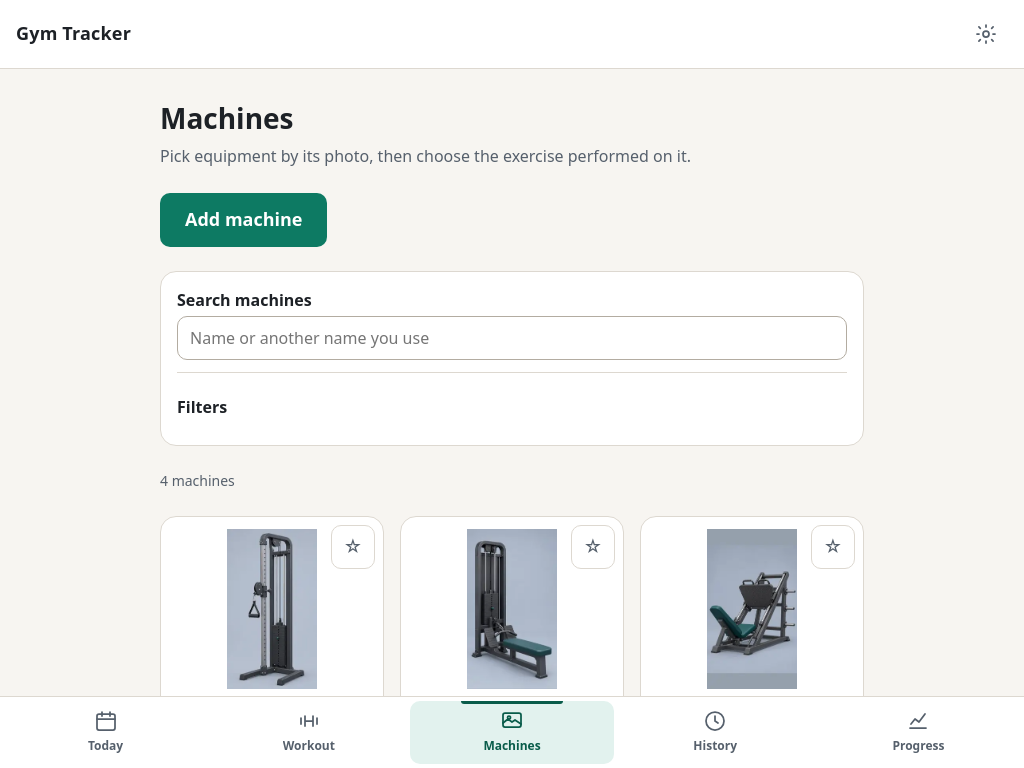
Test: a favourite that cannot be saved › says so in the catalog instead of quietly reverting
Check: the link with aria-label "Open Low cable row station" is shown, box [413,529,611,717]
Step 1. Click the button named "Add Low cable row station to favourites" → {"x": 593, "y": 547}, box [571,525,615,569]
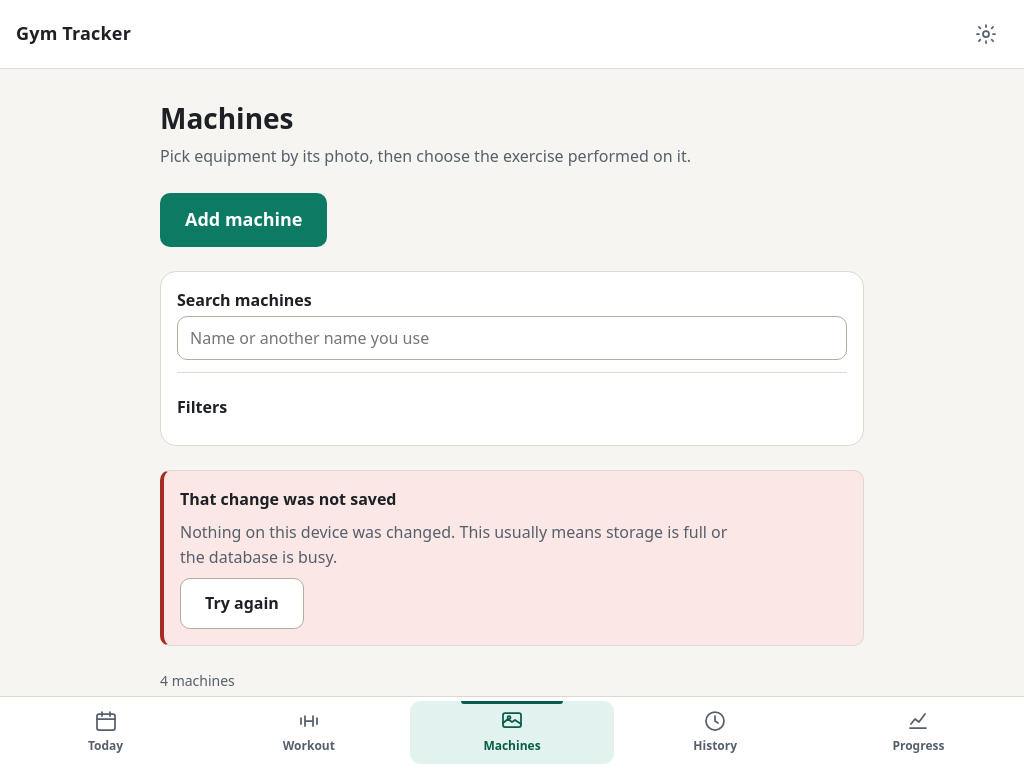
Check: the text "That change was not saved" is shown, box [180,488,396,510]
Check: the text "storage is full or the database is busy" is shown, box [180,521,727,568]
Check: the button "Try again" is shown, box [180,578,304,629]
